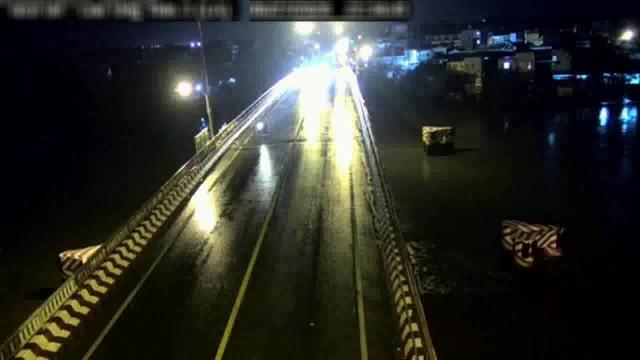Bike: (254, 119, 270, 136)
